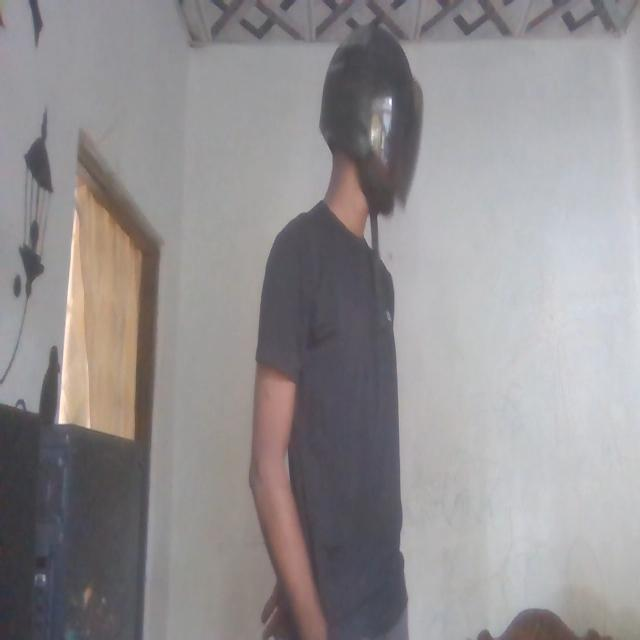Helmet_Wearer: (299, 2, 425, 276)
Person: (246, 2, 430, 640)
